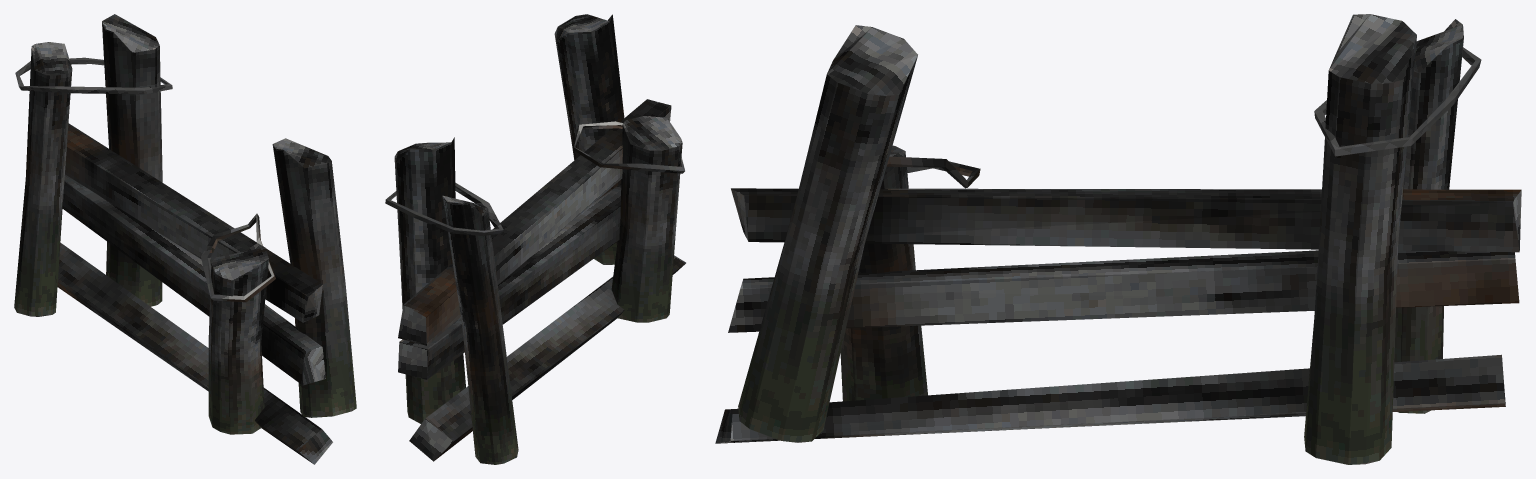
The model's file is big_fence_03.glb.
The picture shows the model from 3 angles, left to right: view 1: azimuth 30°, elevation 25°; view 2: azimuth 150°, elevation 25°; view 3: azimuth 270°, elevation 25°; orthographic projection. The views are drawn at different scales.
Visible parts, largest first — view 1: big_fence_03; view 2: big_fence_03; view 3: big_fence_03.
Part boxes in pixels (x1,y1,x2,y2): big_fence_03: [14, 14, 356, 464]; big_fence_03: [385, 14, 685, 464]; big_fence_03: [715, 14, 1521, 464].
Bounding box in the file's own units: 1.84 × 3.62 × 6.11.
1 material, 1 textured.
